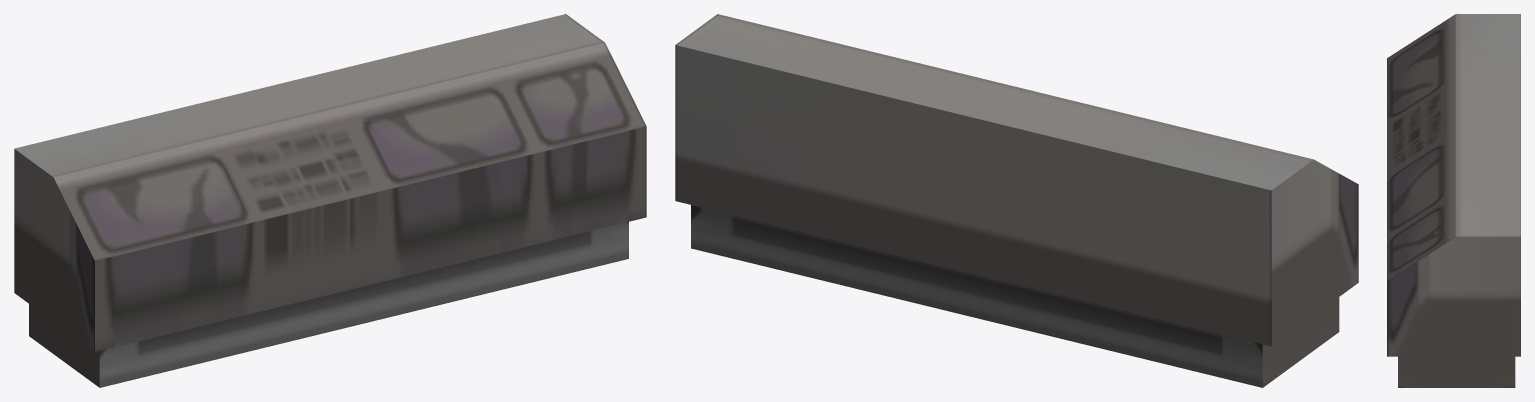
File: Building_AncientDestroyedConsoleLarge.obj
The picture shows the model from 3 angles, left to right: view 1: azimuth 30°, elevation 25°; view 2: azimuth 150°, elevation 25°; view 3: azimuth 270°, elevation 25°; orthographic projection. The views are drawn at different scales.
Parts seen in each view (by area): view 1: Body; view 2: Body; view 3: Body.
Part boxes in pixels (x1,y1,x2,y2): Body: (14,14,646,387); Body: (675,14,1358,387); Body: (1387,14,1520,387).
Size of the model in its own units: 2.92 by 0.95 by 0.74.
1 material, 1 textured.
